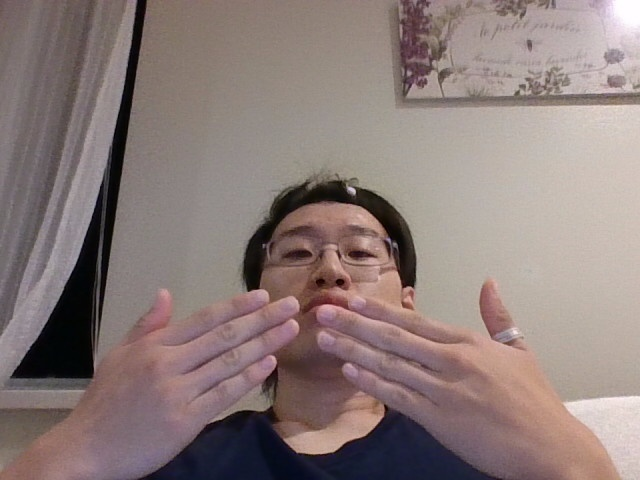ThankYou: (84, 278, 563, 470)
